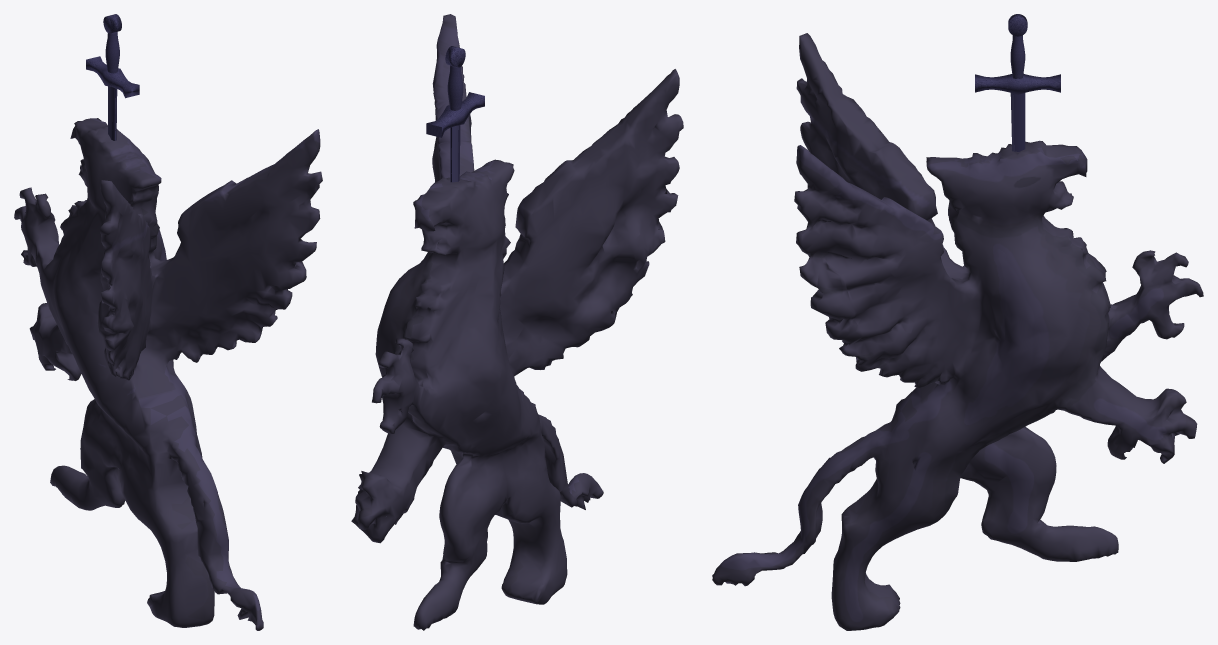
Rendered from griffin-detail.glb.
3 views of the same model, side by side, from view 1: azimuth 30°, elevation 25°; view 2: azimuth 150°, elevation 25°; view 3: azimuth 270°, elevation 25° (orthographic). The views are drawn at different scales.
Parts seen in each view (by area): view 1: Plane.001, Cube.003, Cube, Cube.001; view 2: Plane.001, Cube.003, Cube, Cube.001; view 3: Plane.001, Cube.003, Cube.001.
Boxes of the visible parts, x1,y1,x2,y2 form: Plane.001: [14, 118, 322, 630]; Cube.003: [86, 56, 139, 98]; Cube: [105, 32, 119, 73]; Cube.001: [108, 86, 117, 140]; Plane.001: [351, 14, 683, 630]; Cube.003: [426, 92, 484, 137]; Cube: [447, 65, 463, 110]; Cube.001: [450, 125, 460, 182]; Plane.001: [712, 33, 1203, 630]; Cube.003: [975, 73, 1060, 94]; Cube.001: [1010, 93, 1025, 151].
Size of the model in its own units: 2.03 by 4.86 by 3.58.
Materials: 4 (4 with a texture image).
